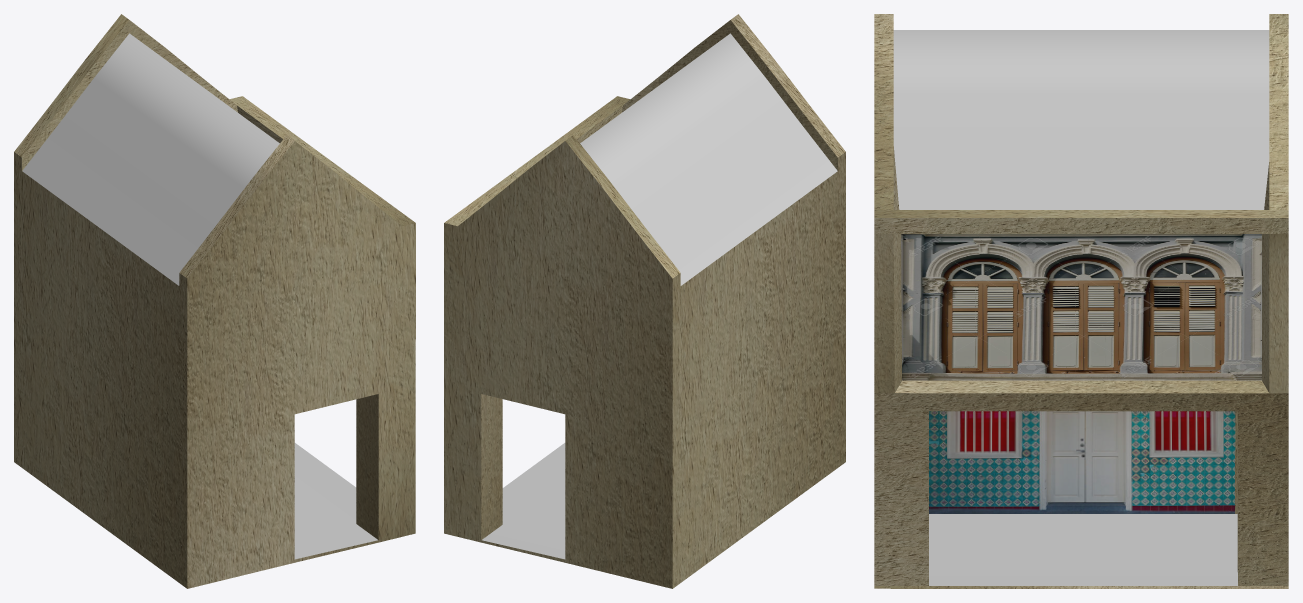
Rendered from shophouseyellow.fbx.
The picture shows the model from 3 angles, left to right: view 1: azimuth 30°, elevation 25°; view 2: azimuth 150°, elevation 25°; view 3: azimuth 270°, elevation 25°; orthographic projection. The views are drawn at different scales.
Visible parts, largest first — view 1: Shophouse10; view 2: Shophouse10; view 3: Shophouse10.
Part boxes in pixels (x1,y1,x2,y2): Shophouse10: [14, 14, 415, 588]; Shophouse10: [444, 14, 845, 588]; Shophouse10: [874, 14, 1288, 588].
Bounding box in the file's own units: 408 × 721 × 536.
